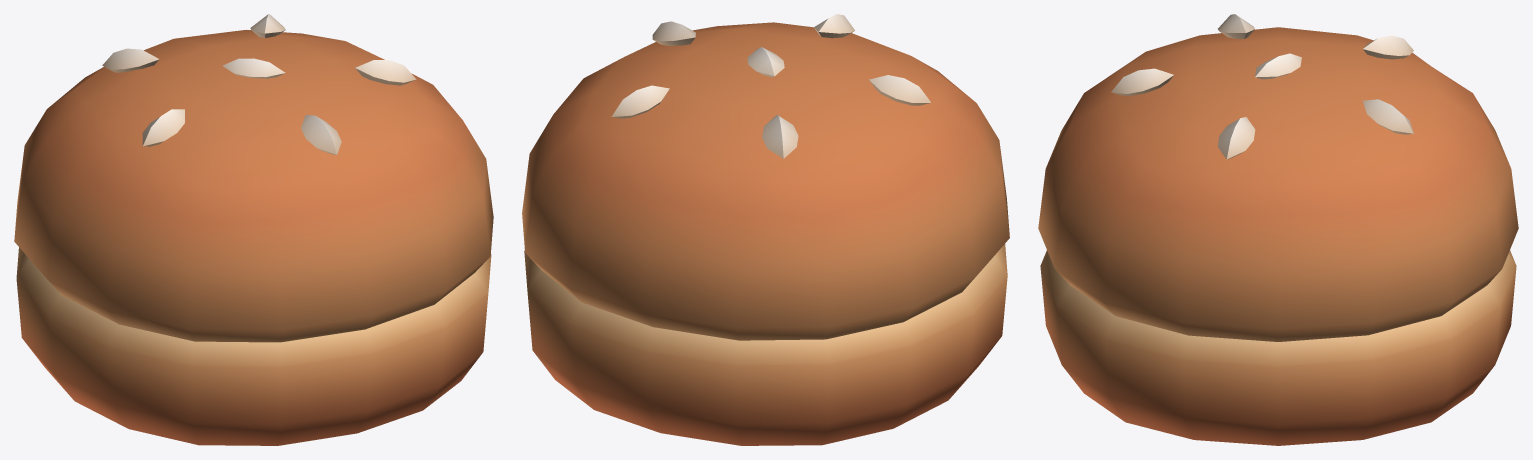
File: food_ingredient_bun.obj
The picture shows the model from 3 angles, left to right: view 1: azimuth 30°, elevation 25°; view 2: azimuth 150°, elevation 25°; view 3: azimuth 270°, elevation 25°; orthographic projection.
Visible parts, largest first — view 1: food_ingredient_bun_Cube.015; view 2: food_ingredient_bun_Cube.015; view 3: food_ingredient_bun_Cube.015.
Boxes of the visible parts, bbox=[...] form: food_ingredient_bun_Cube.015: bbox=[14, 14, 493, 445]; food_ingredient_bun_Cube.015: bbox=[522, 14, 1009, 445]; food_ingredient_bun_Cube.015: bbox=[1038, 14, 1518, 445].
Bounding box in the file's own units: 0.7 × 0.5072 × 0.7.
Materials: 1 (1 with a texture image).
